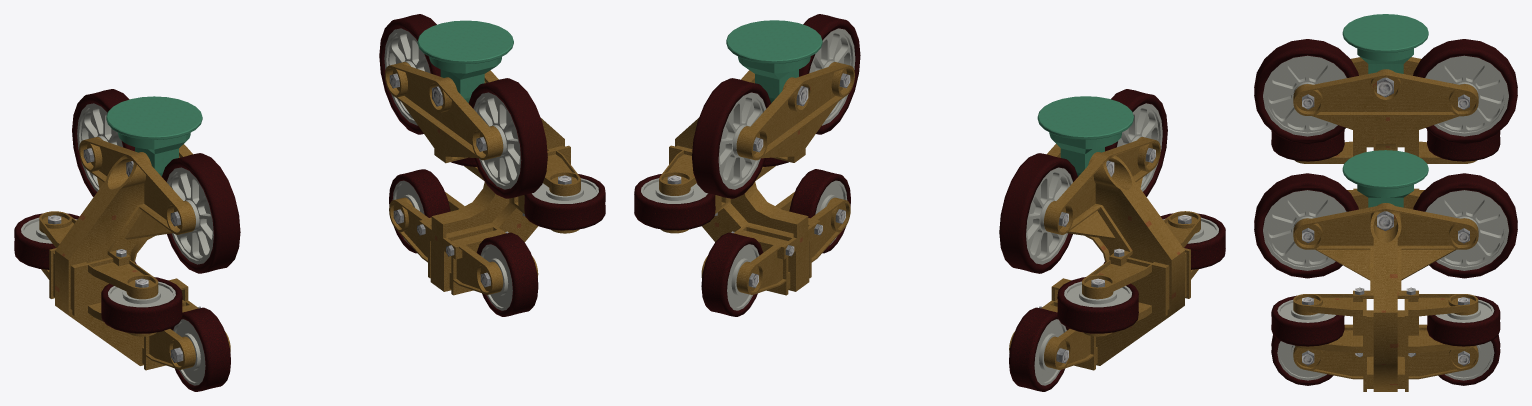
The model's file is Bogie.dae.
The picture shows the model from 3 angles, left to right: view 1: azimuth 30°, elevation 25°; view 2: azimuth 150°, elevation 25°; view 3: azimuth 270°, elevation 25°; orthographic projection. The views are drawn at different scales.
Parts seen in each view (by area): view 1: L, R, Wheel6, Wheel0, RRot, LRot, Wheel10, Wheel2, Wheel4, Wheel8, Wheel7, Wheel1 (+2 smaller); view 2: L, R, Wheel7, Wheel1, RRot, LRot, Wheel11, Wheel3, Wheel5, Wheel9, Wheel6, Wheel0 (+2 smaller); view 3: R, L, Wheel1, Wheel0, Wheel7, Wheel6, LRot, RRot, Wheel8, Wheel9, Wheel2, Wheel3 (+2 smaller).
Boxes of the visible parts, x1,y1,x2,y2 form: L: [39, 137, 230, 370]; R: [384, 62, 580, 295]; Wheel6: [468, 78, 547, 198]; Wheel0: [162, 153, 240, 273]; RRot: [417, 20, 513, 102]; LRot: [106, 96, 202, 176]; Wheel10: [476, 232, 538, 316]; Wheel2: [101, 277, 182, 333]; Wheel4: [170, 307, 230, 391]; Wheel8: [524, 174, 605, 230]; Wheel7: [379, 14, 440, 134]; Wheel1: [72, 89, 134, 196]; L: [1009, 137, 1200, 370]; R: [659, 62, 854, 295]; Wheel7: [692, 78, 770, 198]; Wheel1: [999, 153, 1077, 273]; RRot: [726, 20, 822, 103]; LRot: [1037, 96, 1133, 176]; Wheel11: [701, 232, 762, 316]; Wheel3: [1057, 277, 1138, 333]; Wheel5: [1009, 307, 1069, 391]; Wheel9: [634, 174, 715, 230]; Wheel6: [799, 14, 860, 134]; Wheel0: [1105, 89, 1167, 196]; R: [1293, 191, 1478, 391]; L: [1293, 57, 1478, 192]; Wheel1: [1413, 39, 1517, 143]; Wheel0: [1254, 39, 1358, 143]; Wheel7: [1413, 173, 1517, 278]; Wheel6: [1254, 173, 1358, 278]; LRot: [1342, 14, 1428, 73]; RRot: [1342, 150, 1428, 207]; Wheel8: [1271, 295, 1344, 346]; Wheel9: [1427, 295, 1500, 346]; Wheel2: [1271, 130, 1344, 161]; Wheel3: [1427, 129, 1500, 161].
Size of the model in its own units: 1.46 by 0.7481 by 0.6722.
Materials: 7 (6 with a texture image).
